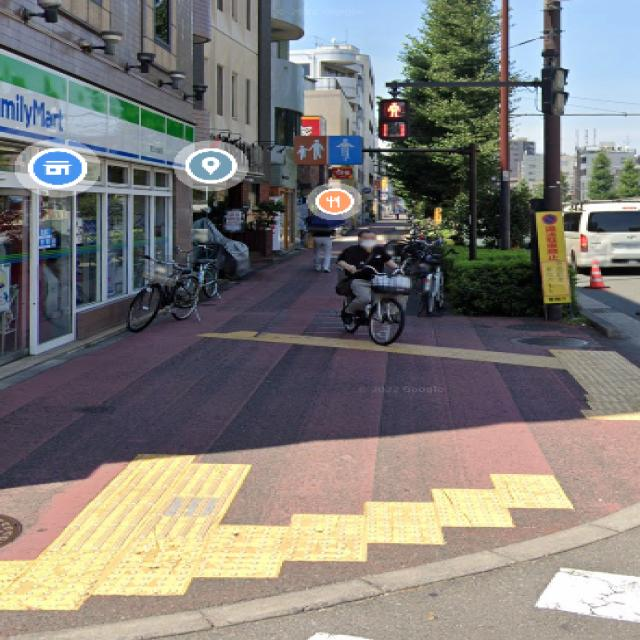traffic-light: (381, 100, 405, 138)
